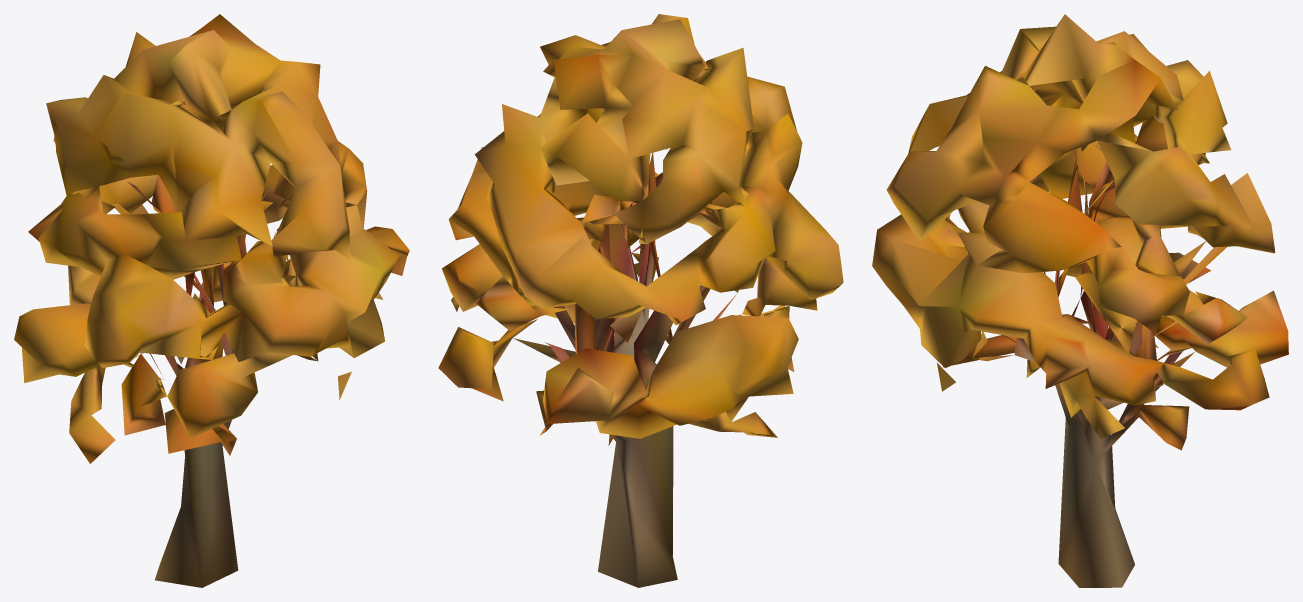
Rendered from tree_a_far.glb.
3 renders of one model, left to right at view 1: azimuth 30°, elevation 25°; view 2: azimuth 150°, elevation 25°; view 3: azimuth 270°, elevation 25°, orthographic.
Size of the model in its own units: 1.24 by 1.85 by 1.27.
